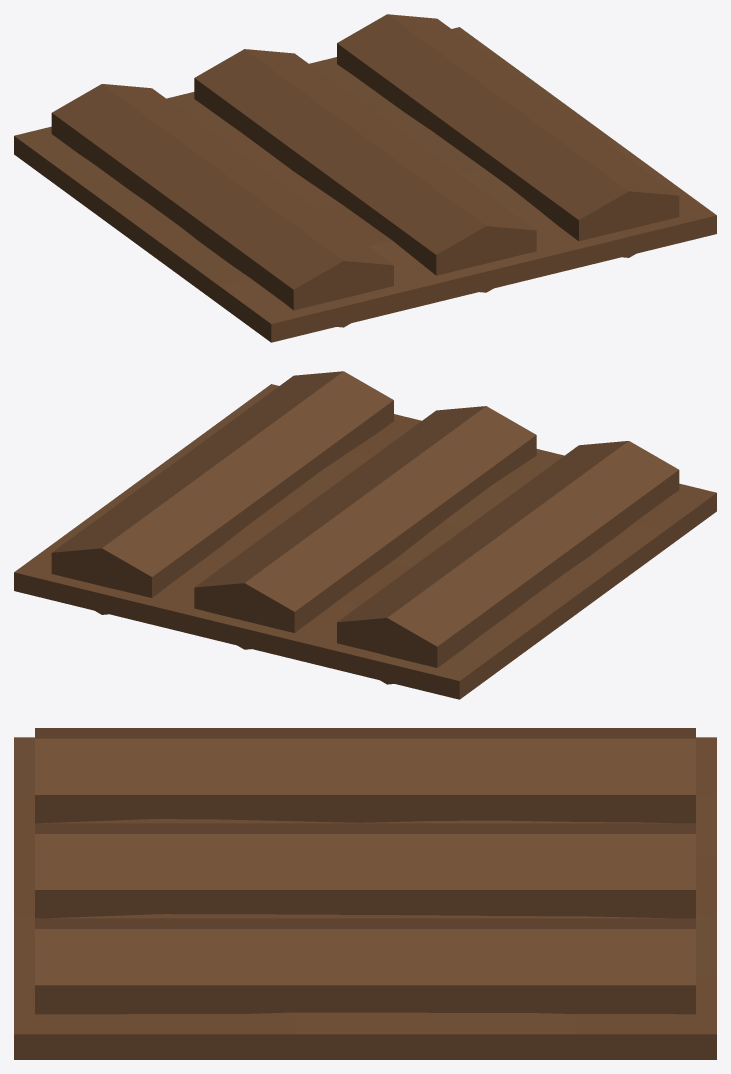
The model's file is soil_tilled.glb.
3 renders of one model, top to bottom at view 1: azimuth 30°, elevation 25°; view 2: azimuth 150°, elevation 25°; view 3: azimuth 270°, elevation 25°, orthographic. The views are drawn at different scales.
Visible parts, largest first — view 1: soil_tilled; view 2: soil_tilled; view 3: soil_tilled.
Part boxes in pixels (<box>): soil_tilled: <box>14,14,716,342</box>; soil_tilled: <box>14,371,716,699</box>; soil_tilled: <box>14,728,716,1059</box>.
Bounding box in the file's own units: 1 × 0.143 × 1.
